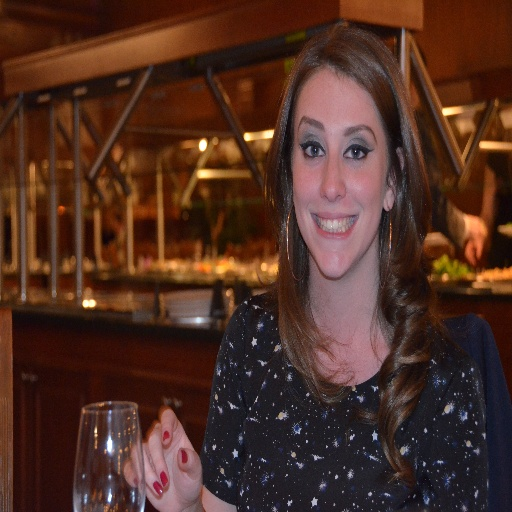hand: (123, 408, 201, 511)
